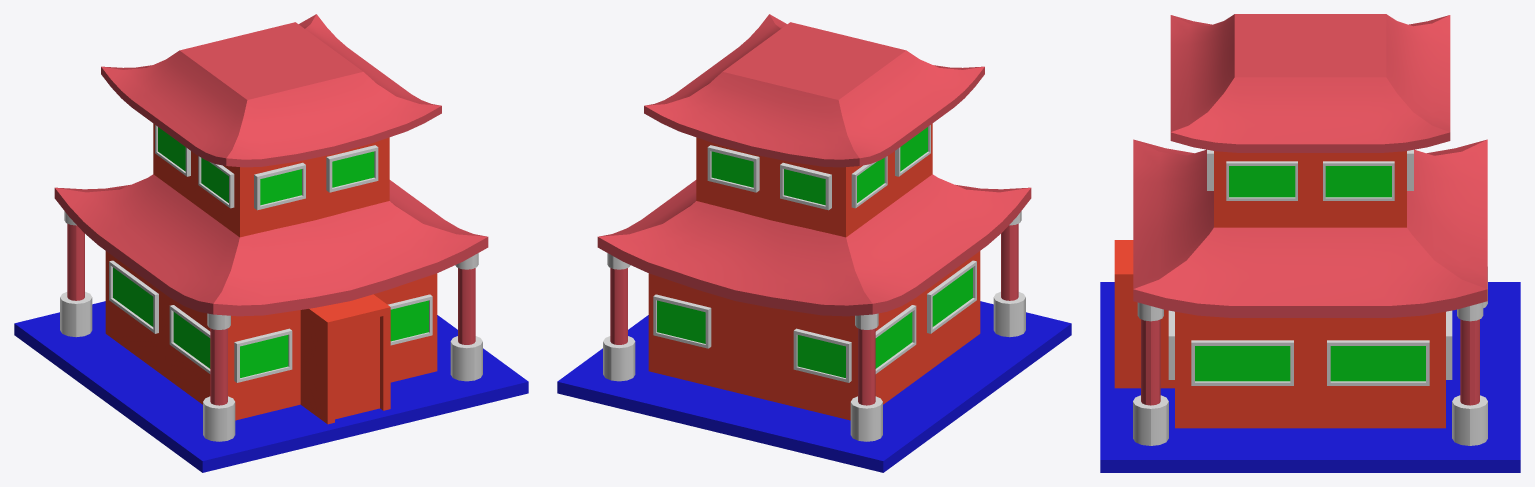
Rendered from houseChinese.fbx.
3 views of the same model, side by side, from view 1: azimuth 30°, elevation 25°; view 2: azimuth 150°, elevation 25°; view 3: azimuth 270°, elevation 25° (orthographic). The views are drawn at different scales.
Visible parts, largest first — view 1: HouseChinese; view 2: HouseChinese; view 3: HouseChinese.
Part boxes in pixels (x1,y1,x2,y2): HouseChinese: (14,14,528,472); HouseChinese: (557,14,1071,472); HouseChinese: (1100,14,1520,472).
Size of the model in its own units: 72.44 by 64.36 by 72.44.
